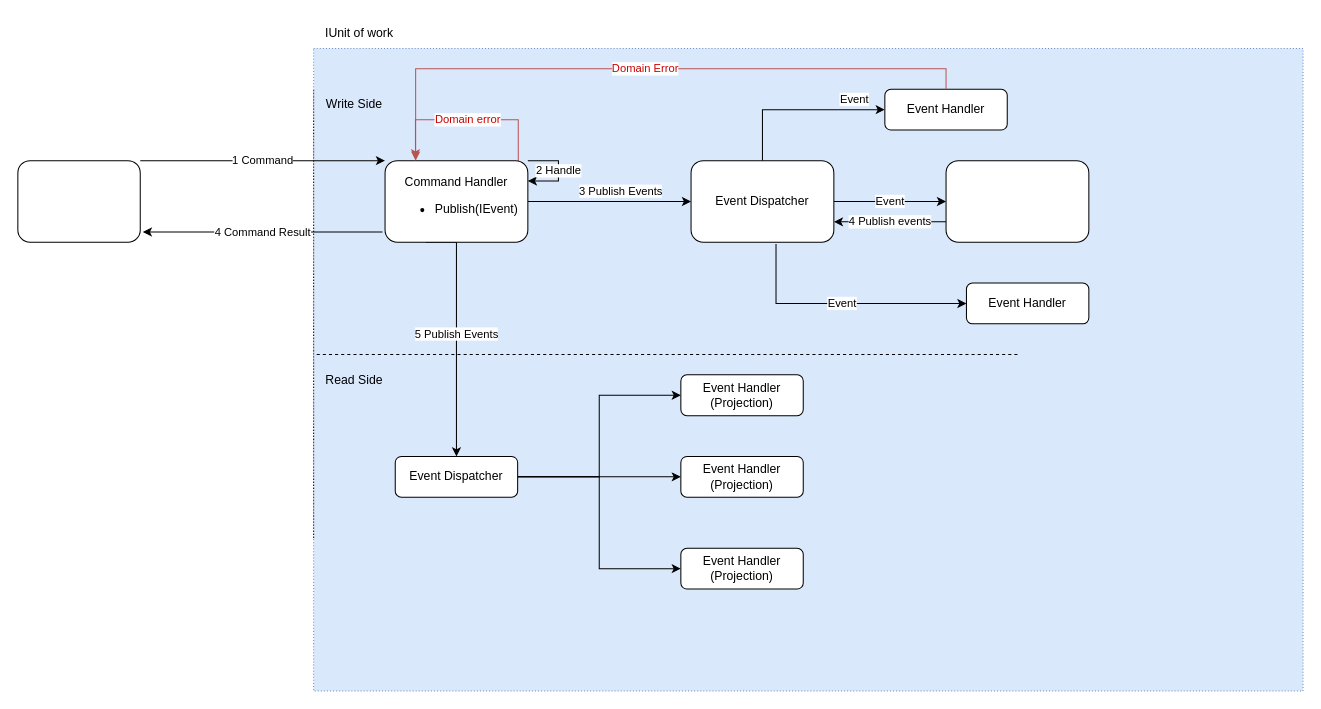
The diagram is 1321 pixels wide and 709 high, and some of its shapes have lost their labels. The centre of each missing label's shape, as x and y in pixels:
Client: (78,201)
Event Handler Publish(IEvent): (1017,201)
